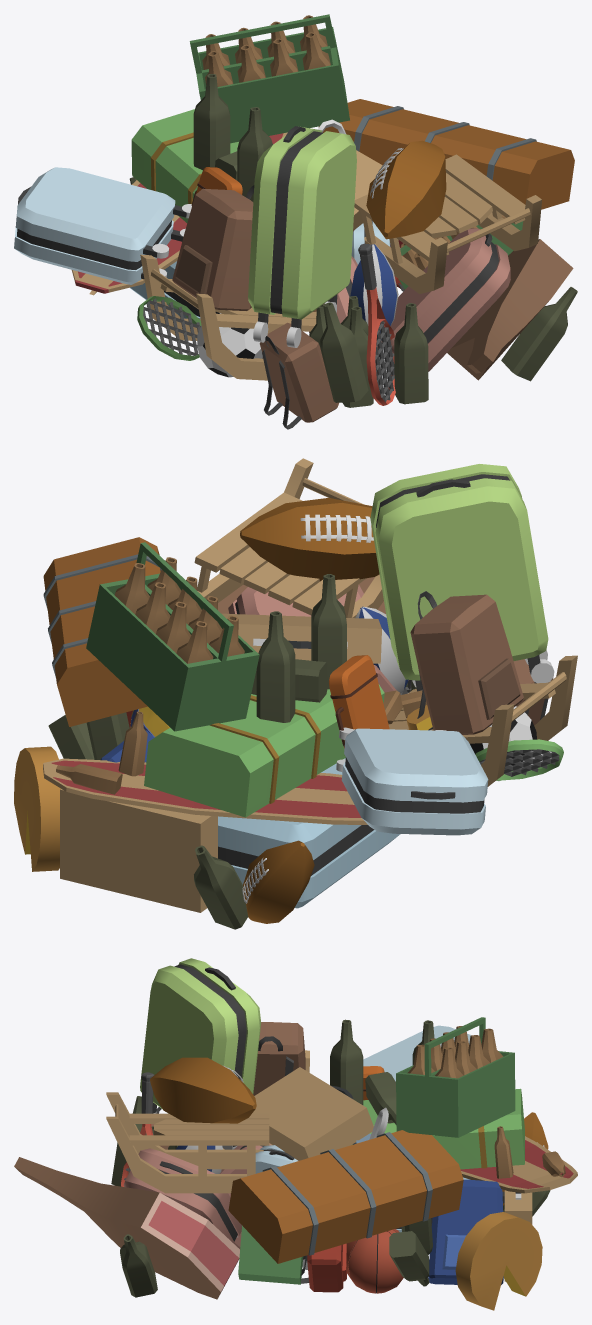
The model's file is Groupe_Bagage_30.fbx.
The picture shows the model from 3 angles, top to bottom: view 1: azimuth 30°, elevation 25°; view 2: azimuth 150°, elevation 25°; view 3: azimuth 270°, elevation 25°; orthographic projection. The views are drawn at different scales.
Parts seen in each view (by area): view 1: Groupe_Bagage_30; view 2: Groupe_Bagage_30; view 3: Groupe_Bagage_30.
Part boxes in pixels (<box>): Groupe_Bagage_30: <box>14,14,577,429</box>; Groupe_Bagage_30: <box>14,458,577,929</box>; Groupe_Bagage_30: <box>14,958,577,1310</box>.
Bounding box in the file's own units: 298 × 167 × 340.
Materials: 1 (1 with a texture image).
